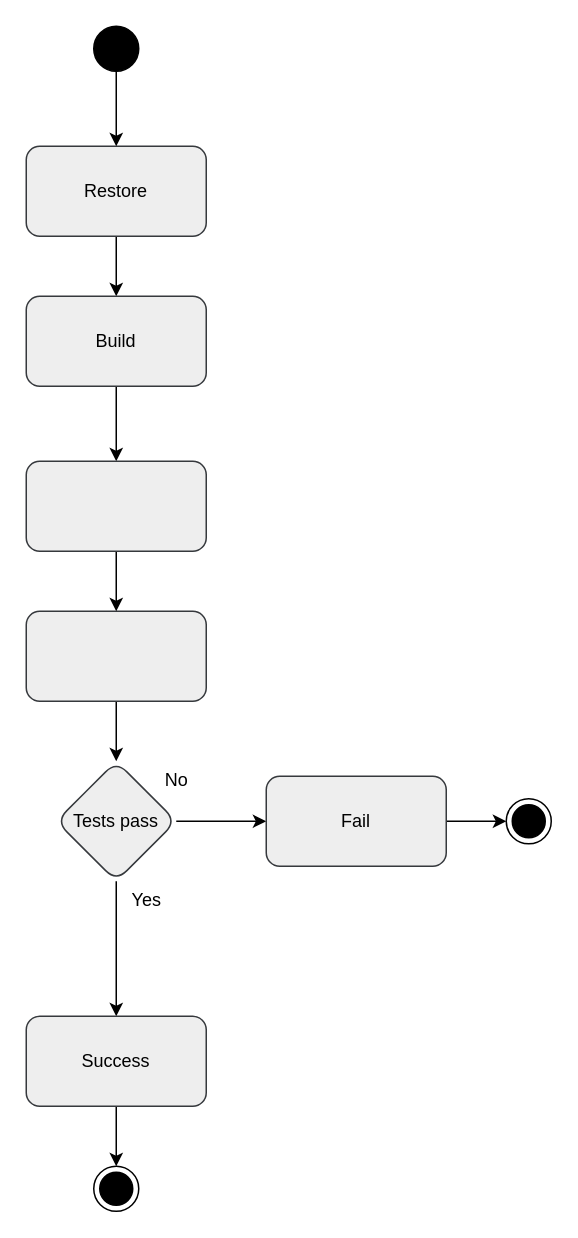
Some shapes in this 578 by 1238 pixel diagram are drawn without their labels. Here are the shapes that lost their labels. From the top down, the box of each, then its label:
(25, 460, 206, 551): Download Browsers for Playwright
(25, 610, 206, 701): Run playwright tests
